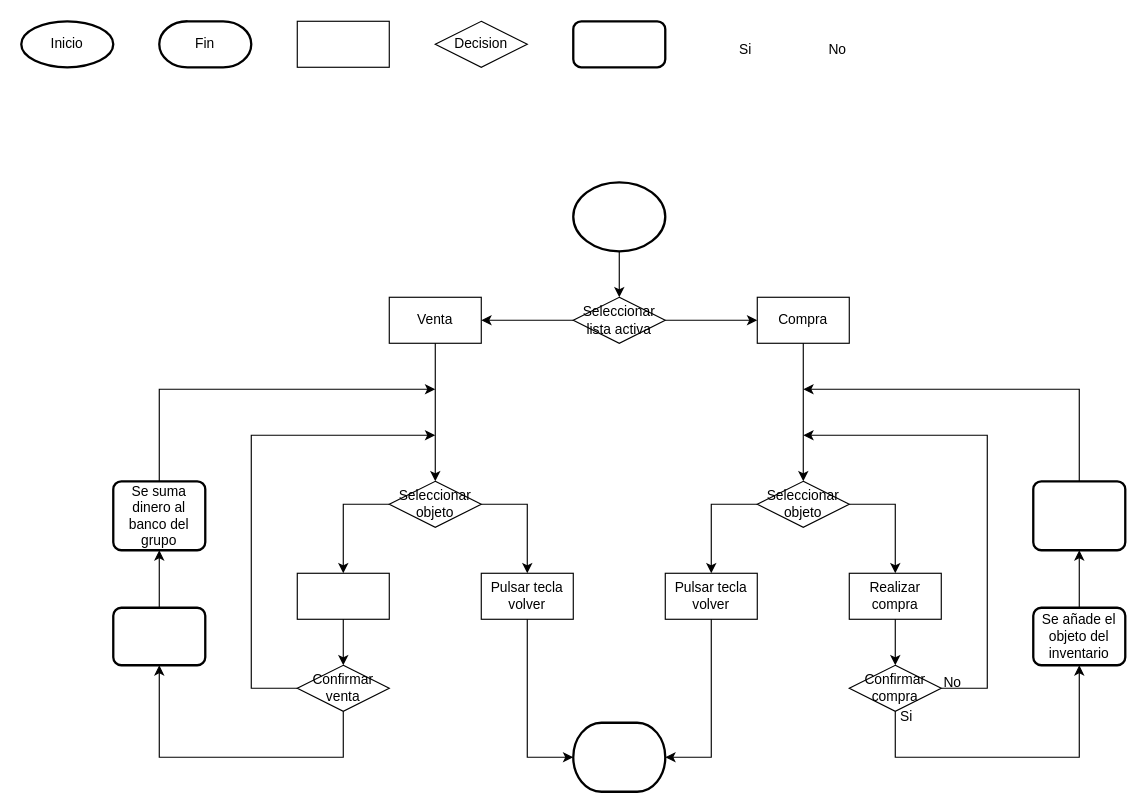
The diagram is 1145 pixels wide and 812 high, and some of its shapes have lost their labels. Here are the shapes that lost their labels. From the top down, the centre of each, then its label:
point 342,43: Opcion
point 619,44: Proceso
point 619,216: Interfaz de compra
point 1079,515: Se resta dinero al banco del grupo
point 342,595: Realizar venta
point 159,636: Se elimina el objeto del inventario
point 619,756: Volver a la interfaz de mapa
